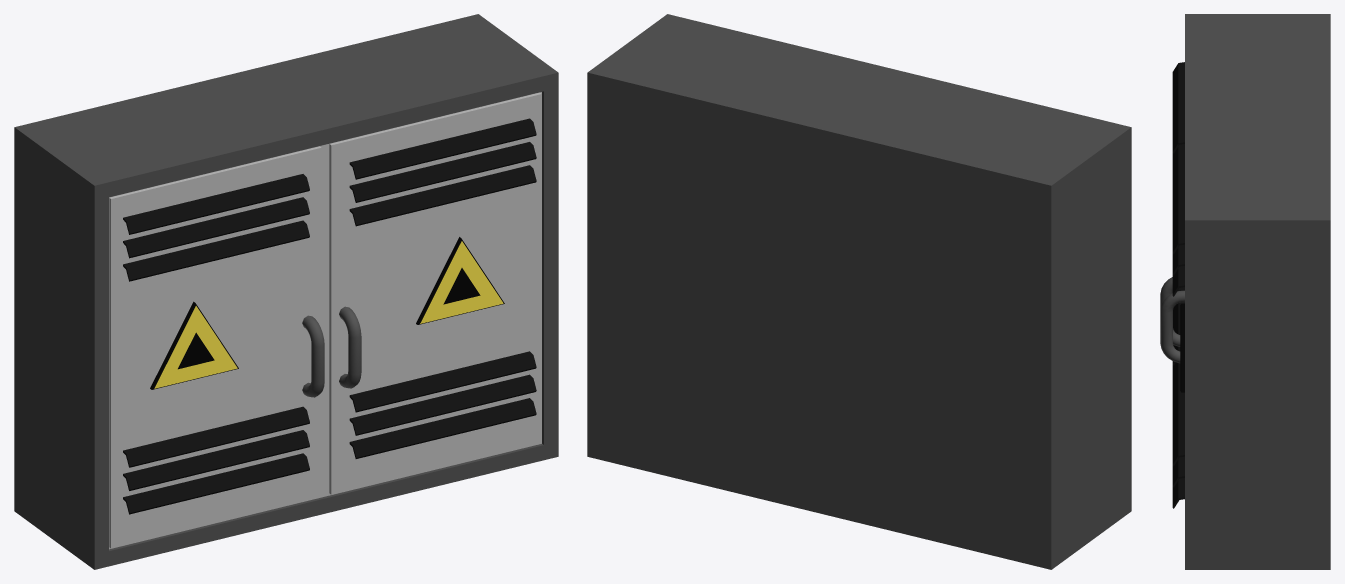
File: Prop_ElectracityCabinet_03.fbx
The picture shows the model from 3 angles, left to right: view 1: azimuth 30°, elevation 25°; view 2: azimuth 150°, elevation 25°; view 3: azimuth 270°, elevation 25°; orthographic projection. The views are drawn at different scales.
Visible parts, largest first — view 1: Prop_ElectracityCabinet_03; view 2: Prop_ElectracityCabinet_03; view 3: Prop_ElectracityCabinet_03.
Boxes of the visible parts, x1=… form: Prop_ElectracityCabinet_03: x1=14, y1=14, x2=558, y2=569; Prop_ElectracityCabinet_03: x1=587, y1=14, x2=1131, y2=569; Prop_ElectracityCabinet_03: x1=1160, y1=14, x2=1330, y2=569.
Bounding box in the file's own units: 150 × 119 × 52.31.
